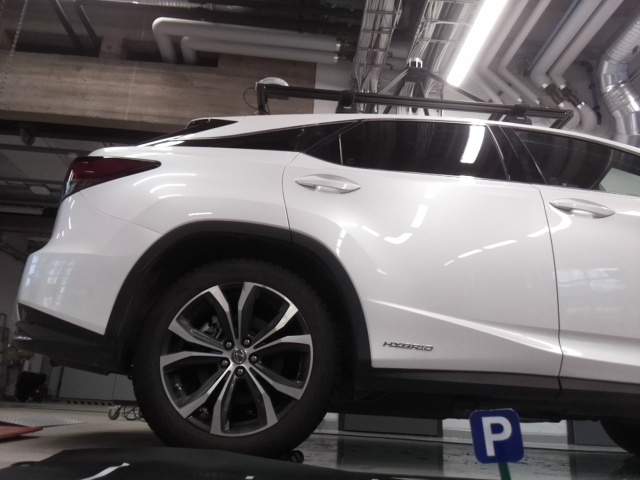Parking: (467, 409, 523, 463)
